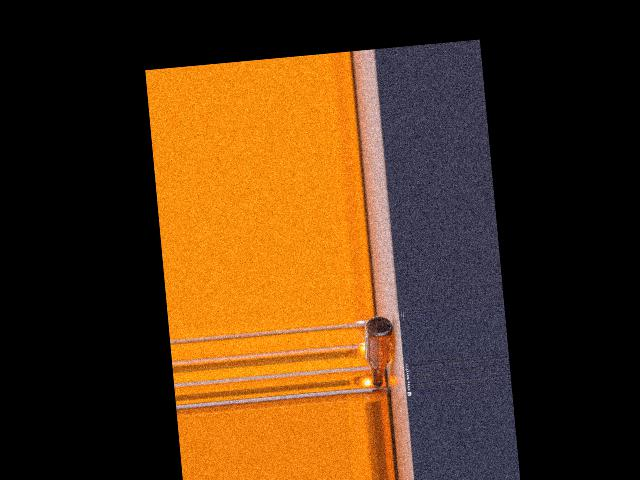beer: (361, 314, 399, 386)
